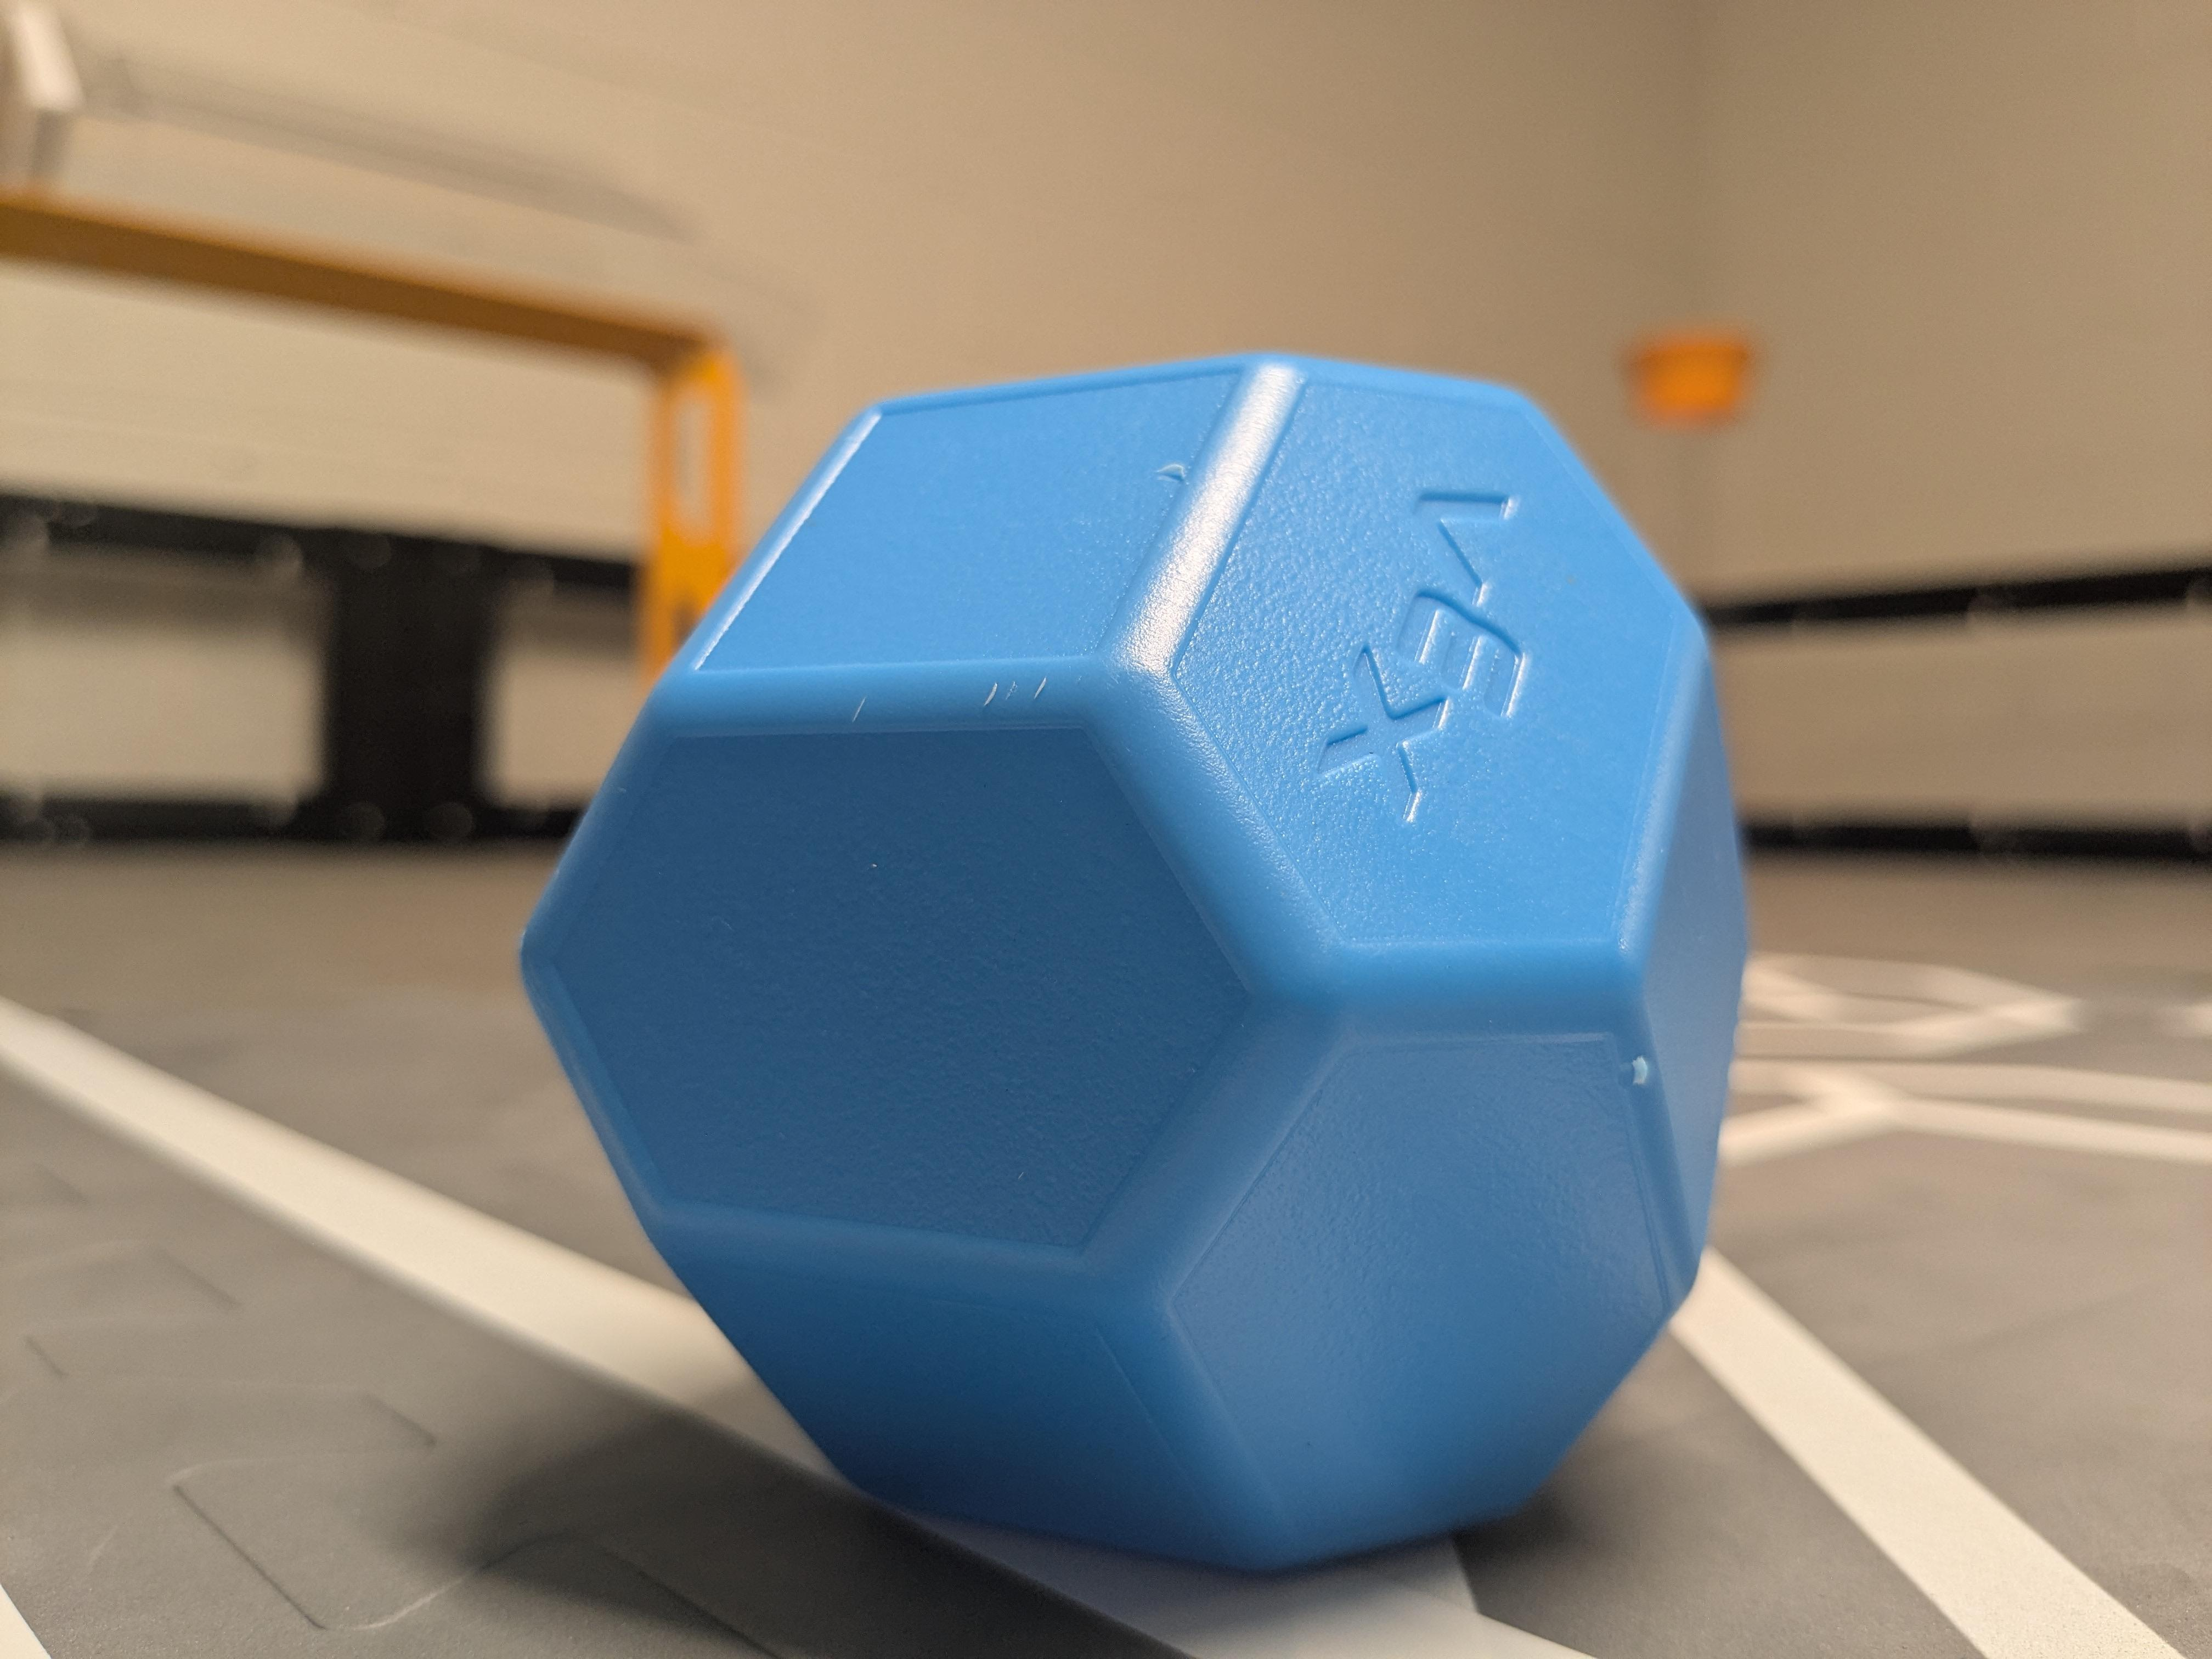Vex-Pieces-BLUE: (523, 356, 1745, 1568)
